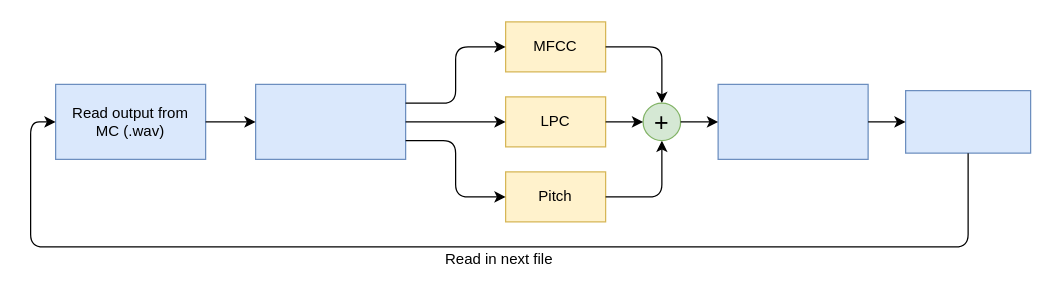
Some shapes in this 1053 by 294 pixel diagram are drawn without their labels. Here are the shapes that lost their labels. From the top down, the box of each, then its label:
(254, 83, 406, 159): Filter file (75 - 3475Hz)
(717, 83, 868, 159): Support Vector Machine (SVC)
(904, 89, 1031, 153): Output Speaker Prediction
